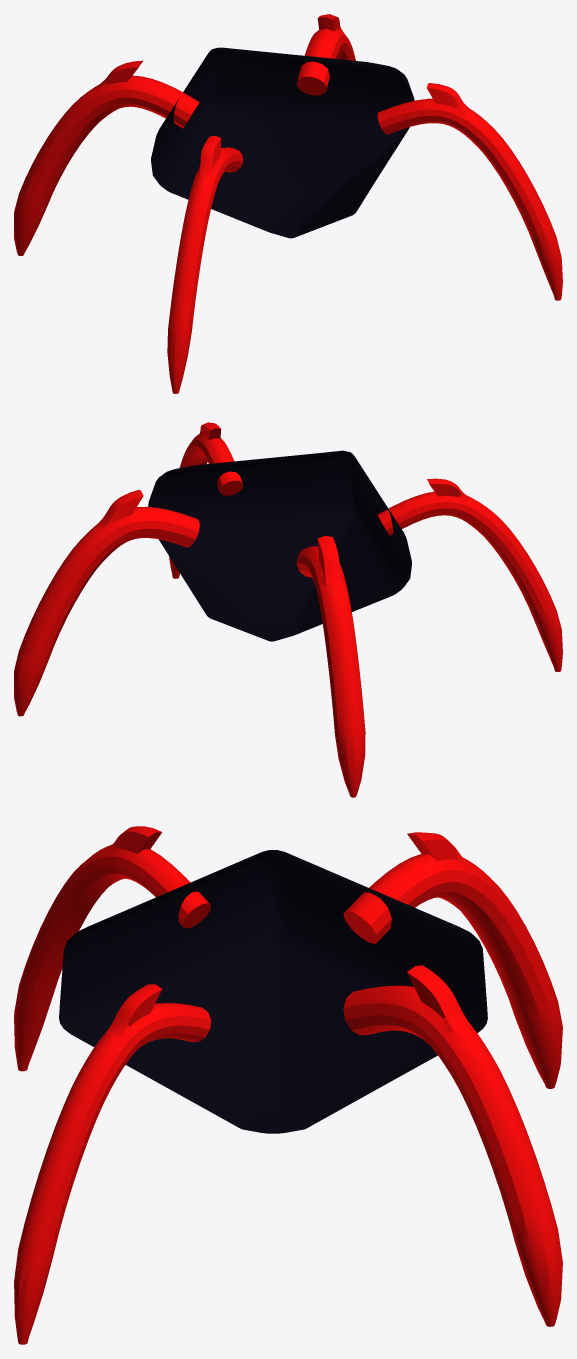
The model's file is Web_Shot_-_Base.fbx.
3 renders of one model, top to bottom at view 1: azimuth 30°, elevation 25°; view 2: azimuth 150°, elevation 25°; view 3: azimuth 270°, elevation 25°, orthographic. The views are drawn at different scales.
Visible parts, largest first — view 1: Body and Legs; view 2: Body and Legs; view 3: Body and Legs.
Boxes of the visible parts, box(x1,y1,x2,y2) form: Body and Legs: box(14, 14, 562, 393); Body and Legs: box(14, 422, 562, 797); Body and Legs: box(14, 826, 562, 1344).
Bounding box in the file's own units: 92.38 × 48.49 × 76.49.
